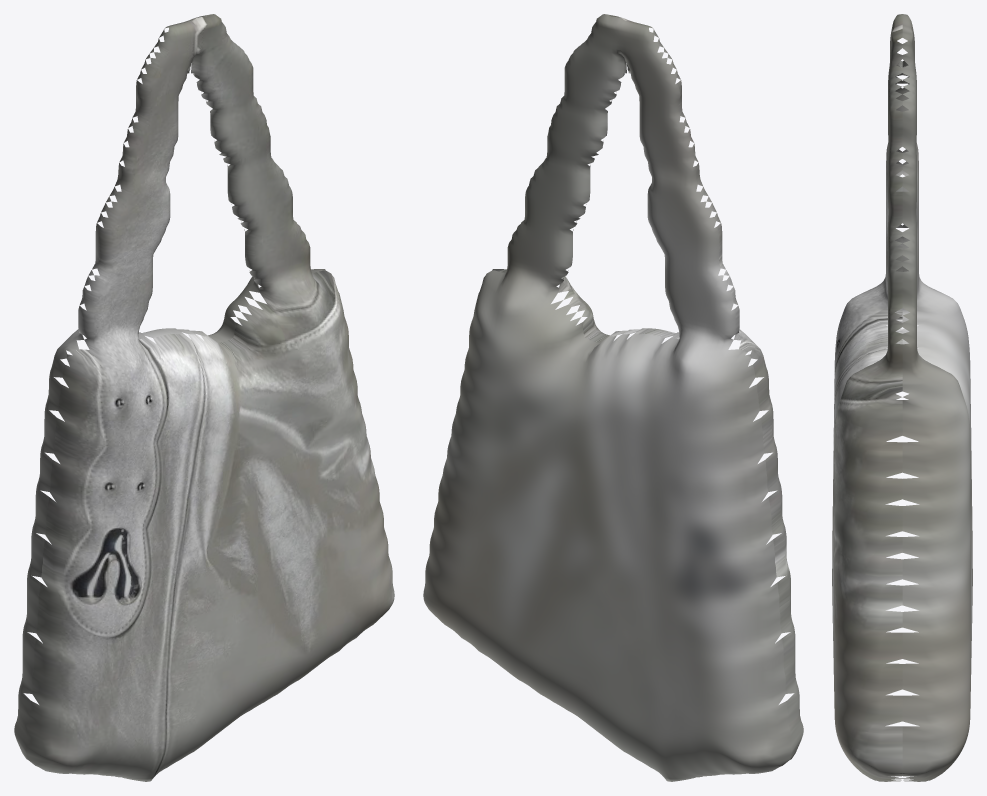
Rendered from arenal-silver.glb.
3 renders of one model, left to right at view 1: azimuth 30°, elevation 25°; view 2: azimuth 150°, elevation 25°; view 3: azimuth 270°, elevation 25°, orthographic. The views are drawn at different scales.
Parts seen in each view (by area): view 1: arenal-silver; view 2: arenal-silver; view 3: arenal-silver.
Boxes of the visible parts, x1,y1,x2,y2 form: arenal-silver: [14, 14, 394, 781]; arenal-silver: [423, 14, 803, 781]; arenal-silver: [832, 14, 972, 781].
Size of the model in its own units: 0.3612 by 0.7099 by 0.1165.
Materials: 2 (2 with a texture image).
